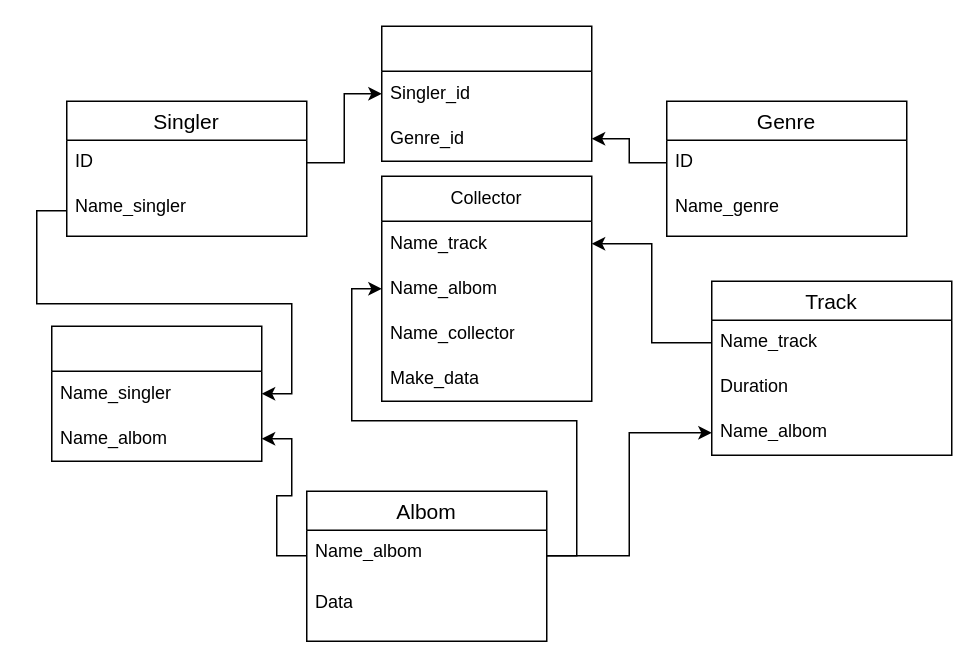
This 978x672 diagram has some shape labels left out. The box of each missing label's shape, as (x1, y1, x2, y2) in pixels:
Singler_albom: (50, 325, 262, 461)
Singler_genre: (380, 25, 592, 161)
